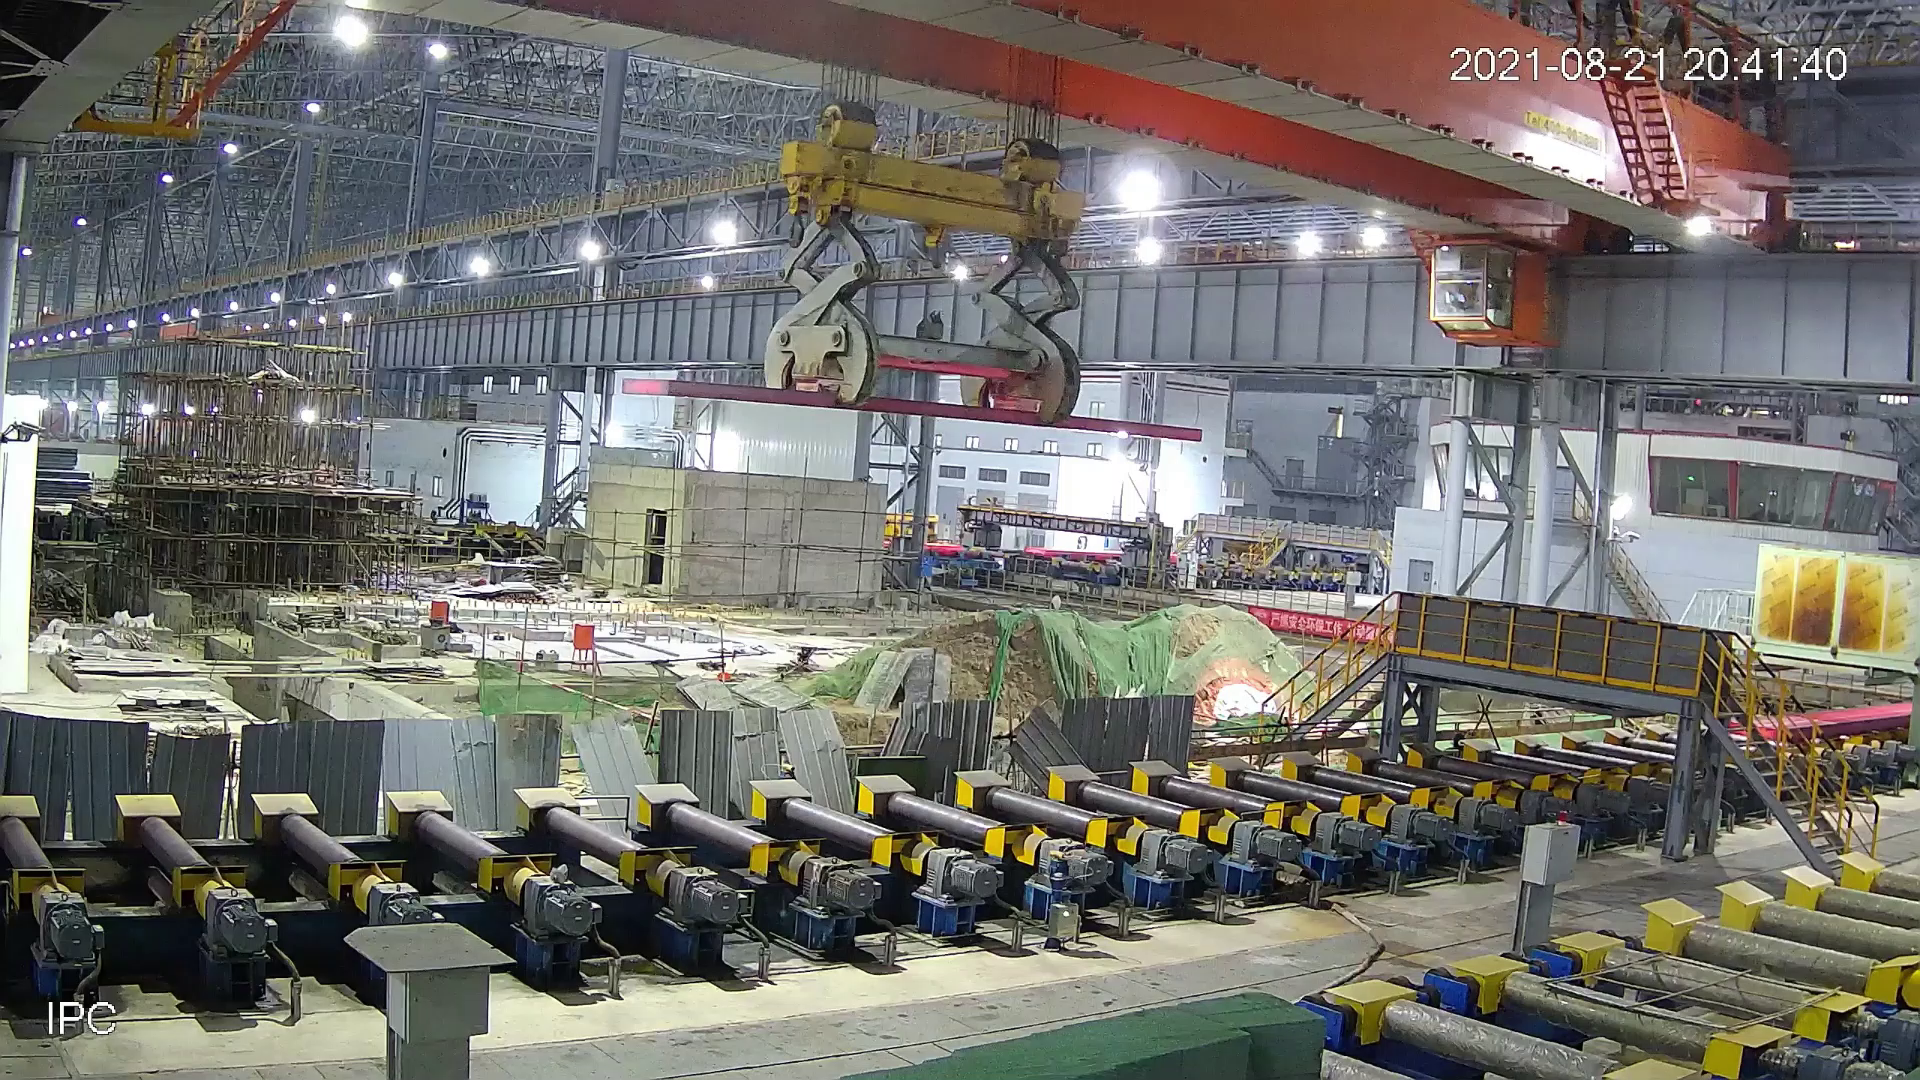craneandslab: (600, 83, 1207, 444)
slab: (1716, 694, 1916, 746)
